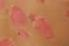plaque psoriasis: (37, 18, 56, 40), (10, 7, 26, 26), (0, 0, 6, 19), (0, 39, 15, 46), (28, 12, 37, 23), (18, 30, 30, 38), (63, 8, 69, 18), (33, 0, 46, 4)
